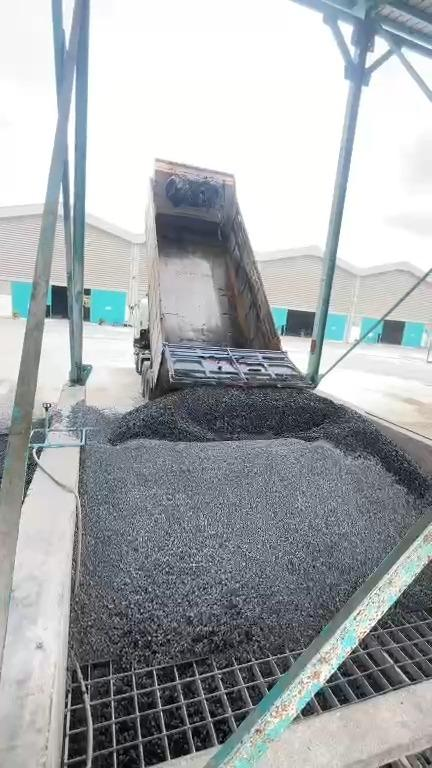gravel: (70, 388, 431, 663), (391, 560, 431, 617), (226, 269, 246, 346), (23, 446, 36, 500), (0, 419, 7, 481), (31, 417, 44, 442), (50, 410, 60, 428), (35, 448, 42, 458)
sand: (406, 402, 431, 437)
